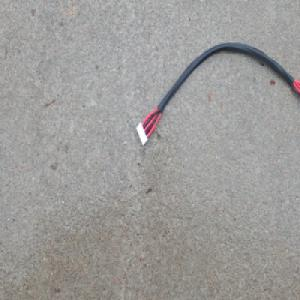Wire: (134, 40, 300, 147)
